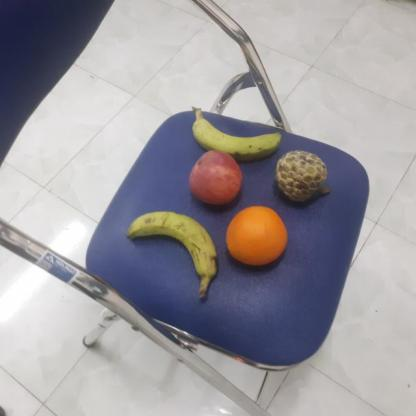annona: (272, 150, 330, 206)
apple: (187, 148, 244, 206)
banana: (126, 210, 219, 281), (190, 114, 282, 162)
orange: (222, 202, 290, 269)
